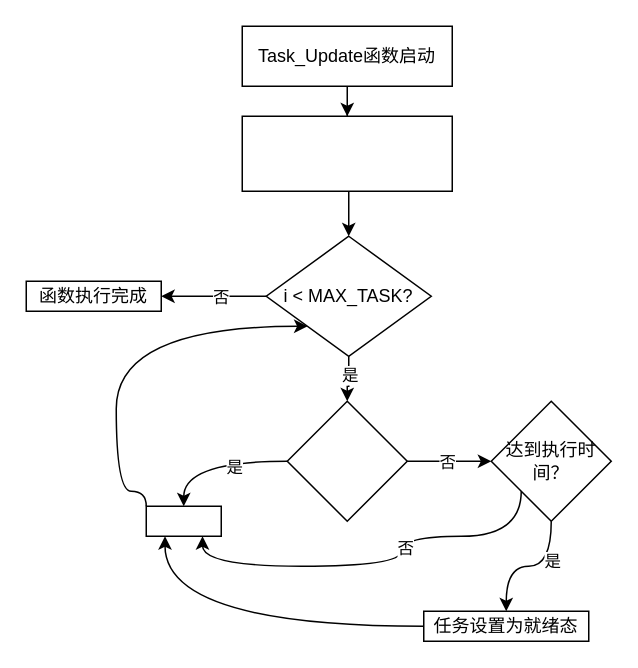
The diagram is 638 pixels wide and 668 high, and some of its shapes have lost their labels. The shapes that lost their labels are listed below. From the top down, each one's centre as x and y in pixels, then its label:
(346,153): 获取当前系统时间 current_time 初始化遍历索引 i = 0
(346,460): 任务块 == NULL ？
(183,520): i ++
